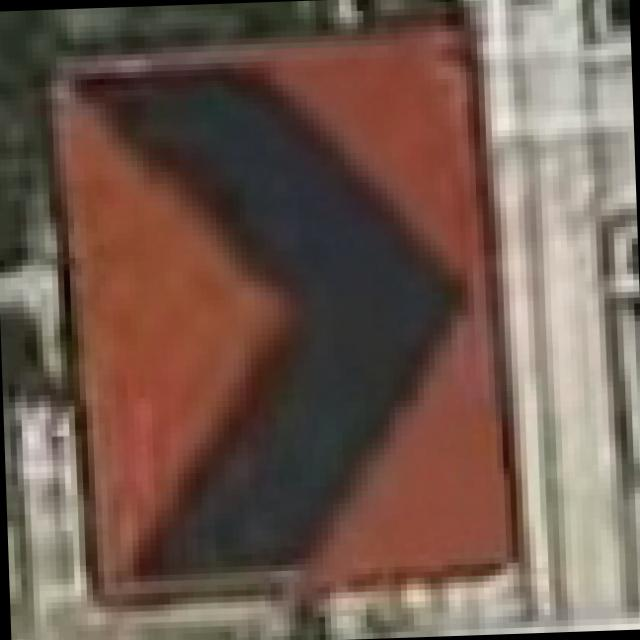curveright_sign: (43, 17, 519, 608)
